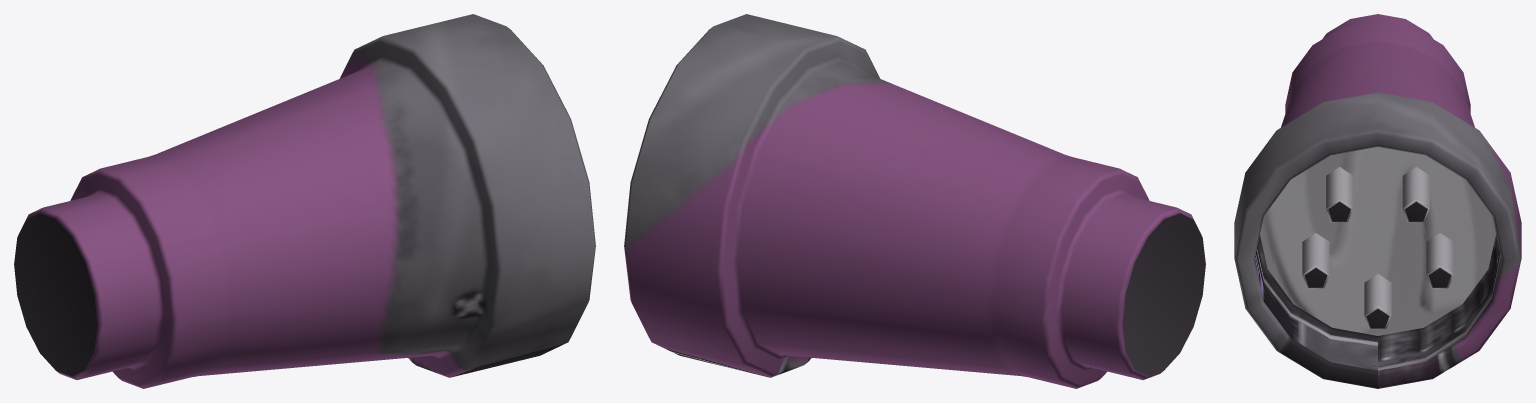
The model's file is SM_EDSPowerPlugMale.fbx.
3 renders of one model, left to right at view 1: azimuth 30°, elevation 25°; view 2: azimuth 150°, elevation 25°; view 3: azimuth 270°, elevation 25°, orthographic. The views are drawn at different scales.
Visible parts, largest first — view 1: Cable Plug - Male; view 2: Cable Plug - Male; view 3: Cable Plug - Male, Wall Socket pins.
Part boxes in pixels (x1=…): Cable Plug - Male: x1=14, y1=14, x2=595, y2=388; Cable Plug - Male: x1=624, y1=14, x2=1205, y2=388; Cable Plug - Male: x1=1234, y1=14, x2=1521, y2=388; Wall Socket pins: x1=1302, y1=167, x2=1453, y2=329.
Size of the model in its own units: 11.13 by 7.4 by 7.4.
